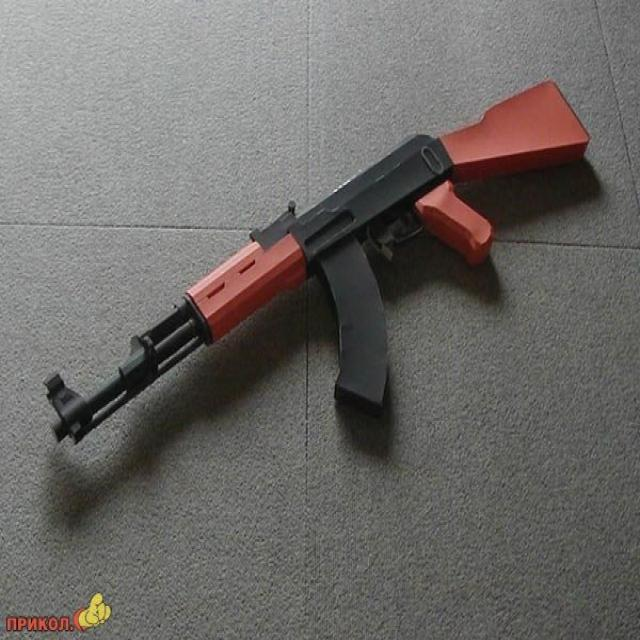firearm: (45, 80, 589, 448)
